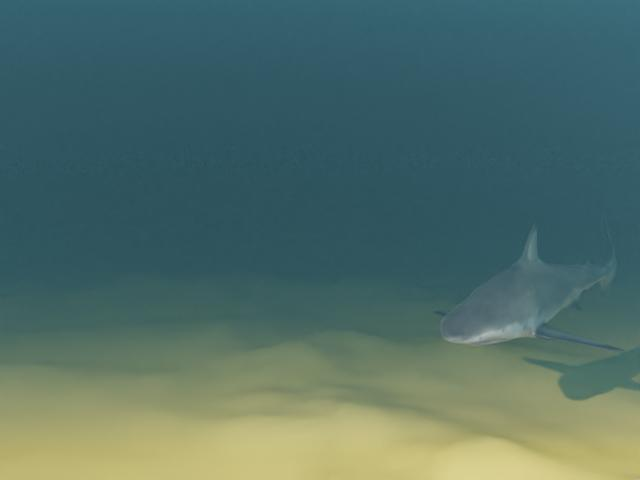Carribean Shark.001: (433, 209, 625, 351)
